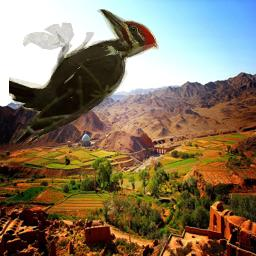Woodpecker: (9, 9, 159, 148)
